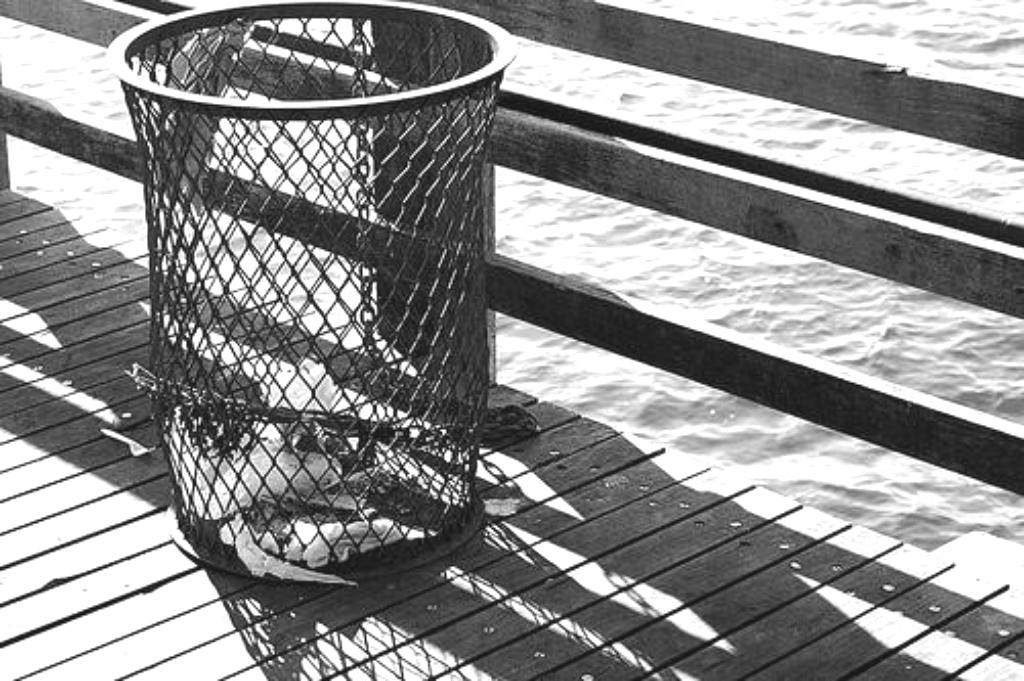dustbin: (98, 0, 524, 599)
